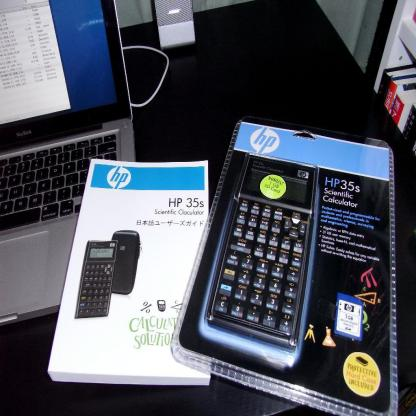board: (0, 0, 137, 323)
